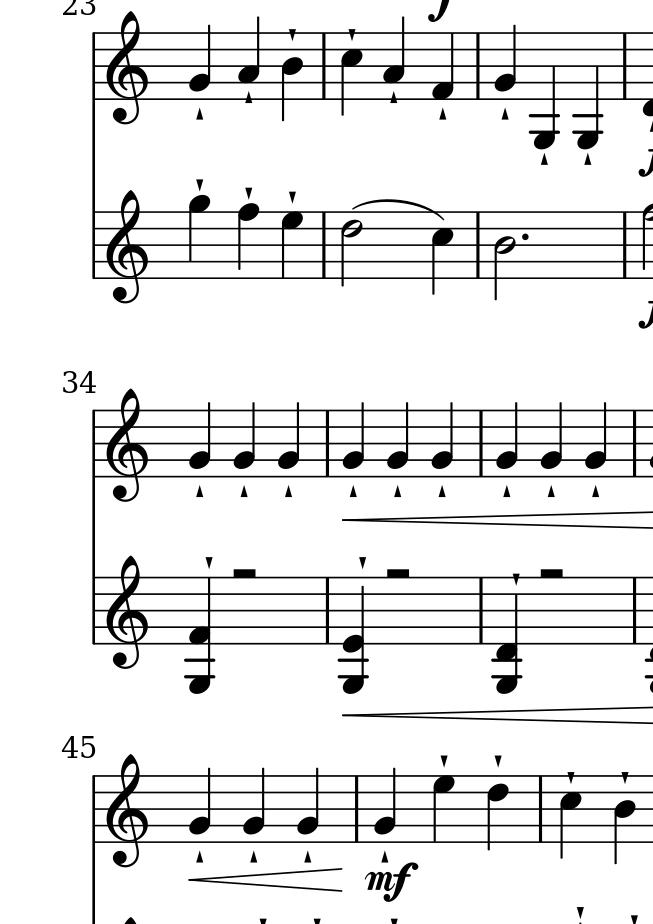2_4: (491, 210, 516, 304)
2_6: (339, 209, 365, 284)
3: (60, 368, 78, 395)
4: (78, 368, 97, 397), (61, 734, 78, 760)
4_-5: (571, 30, 602, 150), (531, 30, 559, 152)
4_-5_-1: (490, 576, 524, 695)
4_-5_0: (339, 577, 371, 695)
4_-5_1: (184, 577, 215, 695)
4_1: (431, 30, 455, 104)
4_2: (490, 22, 518, 102), (339, 400, 368, 477), (295, 764, 321, 845), (385, 400, 411, 479), (371, 766, 398, 842), (188, 765, 214, 843), (430, 400, 455, 481), (187, 399, 212, 479), (241, 764, 266, 844), (495, 400, 520, 479), (188, 23, 213, 102), (277, 399, 302, 478), (540, 399, 564, 480), (234, 400, 257, 480), (585, 400, 608, 479)
4_3: (237, 15, 262, 102), (382, 15, 406, 100)
4_4: (280, 29, 308, 122), (613, 772, 640, 864)
4_5: (557, 773, 585, 862), (429, 209, 455, 296), (339, 30, 363, 118)
4_6: (485, 773, 512, 853), (430, 775, 457, 848)
4_7: (279, 210, 305, 280)
4_8: (235, 203, 264, 279)
4_9: (186, 192, 210, 281)
5: (80, 733, 96, 759)
Crescendo_hairpin: (341, 703, 653, 726), (343, 509, 653, 531)
Gclef: (103, 186, 159, 313), (103, 381, 151, 511), (103, 554, 153, 671), (104, 10, 150, 126), (104, 752, 150, 868)
Rests2: (226, 562, 262, 586), (383, 565, 414, 581), (537, 565, 566, 581)
Single_barline: (616, 33, 634, 100), (315, 211, 333, 278), (617, 211, 634, 278), (469, 212, 486, 277), (86, 212, 102, 280), (316, 32, 332, 99), (473, 577, 489, 644), (627, 577, 643, 644), (348, 775, 364, 841), (86, 408, 101, 478), (86, 32, 101, 100), (627, 409, 642, 477), (320, 578, 335, 645), (533, 776, 548, 841), (87, 577, 101, 645), (87, 775, 101, 842)
Slur: (352, 198, 446, 222)
Staccatissimo: (545, 484, 557, 500), (437, 107, 448, 123), (436, 484, 447, 500), (590, 484, 601, 500), (248, 849, 259, 865), (194, 483, 204, 500), (243, 91, 254, 106), (238, 484, 249, 499), (619, 770, 630, 785), (388, 90, 398, 106), (287, 189, 297, 205), (283, 484, 293, 500), (348, 484, 358, 500), (501, 484, 511, 500), (357, 555, 367, 571), (302, 849, 312, 865), (575, 905, 585, 921), (379, 850, 390, 864), (204, 554, 213, 571), (287, 27, 297, 42), (347, 27, 357, 42), (194, 106, 204, 121), (500, 107, 510, 122), (539, 152, 549, 167), (392, 484, 402, 499), (511, 571, 521, 586), (493, 753, 503, 768), (194, 850, 204, 865), (195, 177, 204, 193), (439, 753, 448, 769), (583, 152, 592, 167), (244, 186, 253, 201), (566, 770, 575, 785), (629, 913, 639, 924), (258, 916, 267, 924), (389, 916, 398, 924), (312, 917, 321, 924)
dot: (519, 231, 532, 244)
mf: (365, 859, 417, 903)
